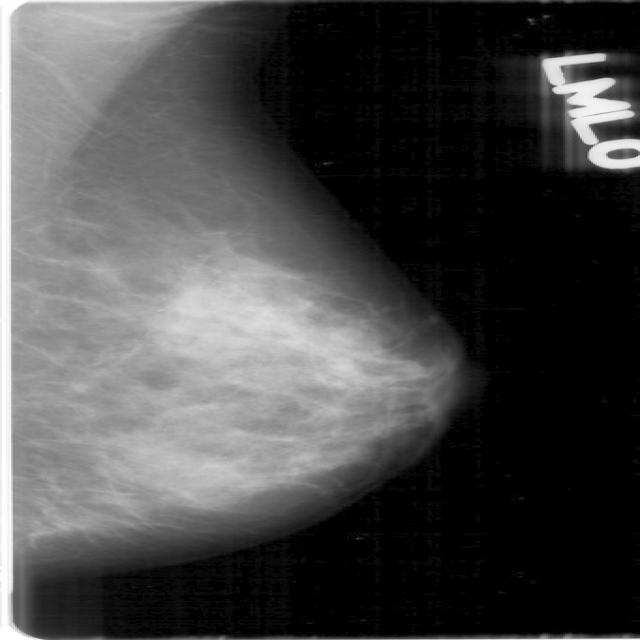tumour: (169, 286, 227, 316)
